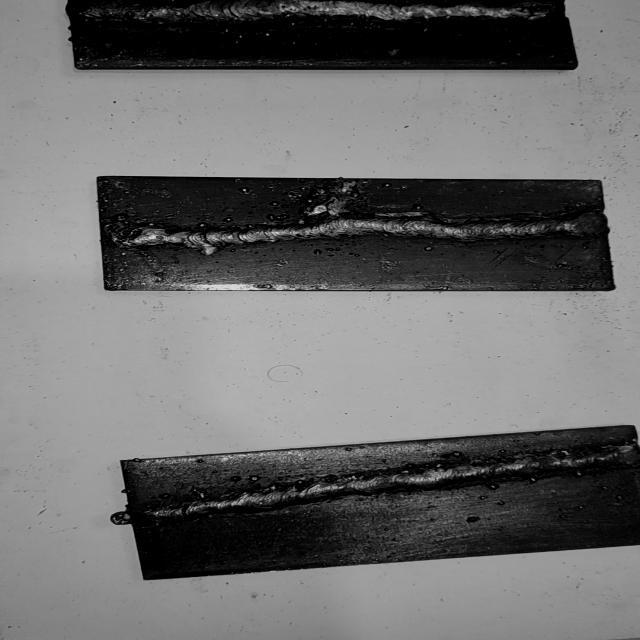Defect: (304, 180, 378, 243), (101, 209, 161, 258)
Welding Line: (134, 442, 640, 530), (105, 210, 604, 249), (77, 0, 564, 23)
Workpiece: (111, 427, 640, 586), (92, 174, 618, 294), (62, 0, 585, 72)
